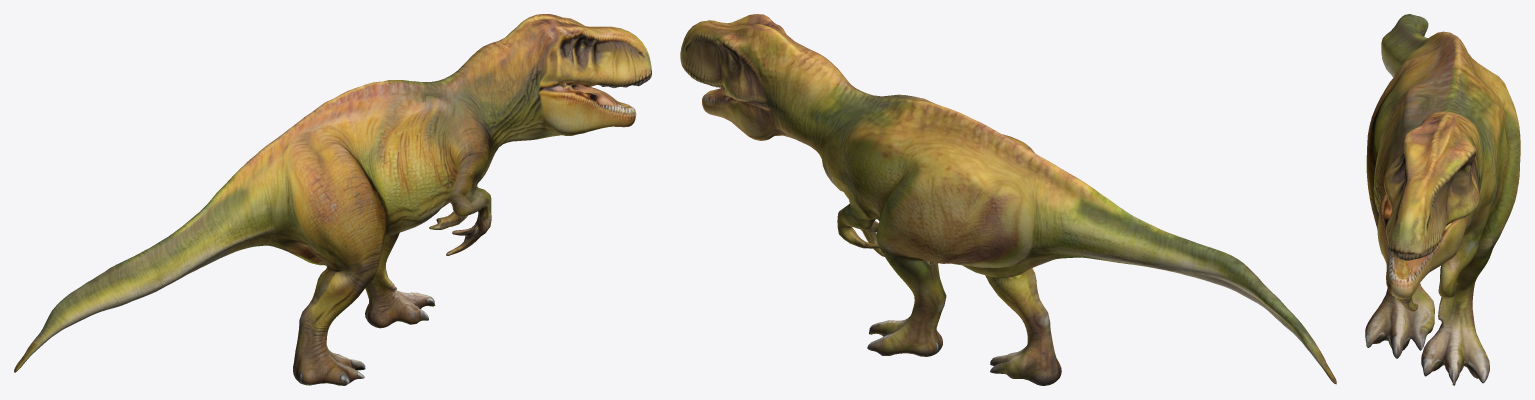
The model's file is 15 Giganotosaurus 3D.glb.
The picture shows the model from 3 angles, left to right: view 1: azimuth 30°, elevation 25°; view 2: azimuth 150°, elevation 25°; view 3: azimuth 270°, elevation 25°; orthographic projection. The views are drawn at different scales.
Visible parts, largest first — view 1: Mesh0; view 2: Mesh0; view 3: Mesh0.
Part boxes in pixels (x1,y1,x2,y2): Mesh0: [14, 14, 651, 385]; Mesh0: [680, 14, 1336, 385]; Mesh0: [1365, 14, 1520, 385].
Bounding box in the file's own units: 15.79 × 7.07 × 2.73.
Materials: 1 (1 with a texture image).
